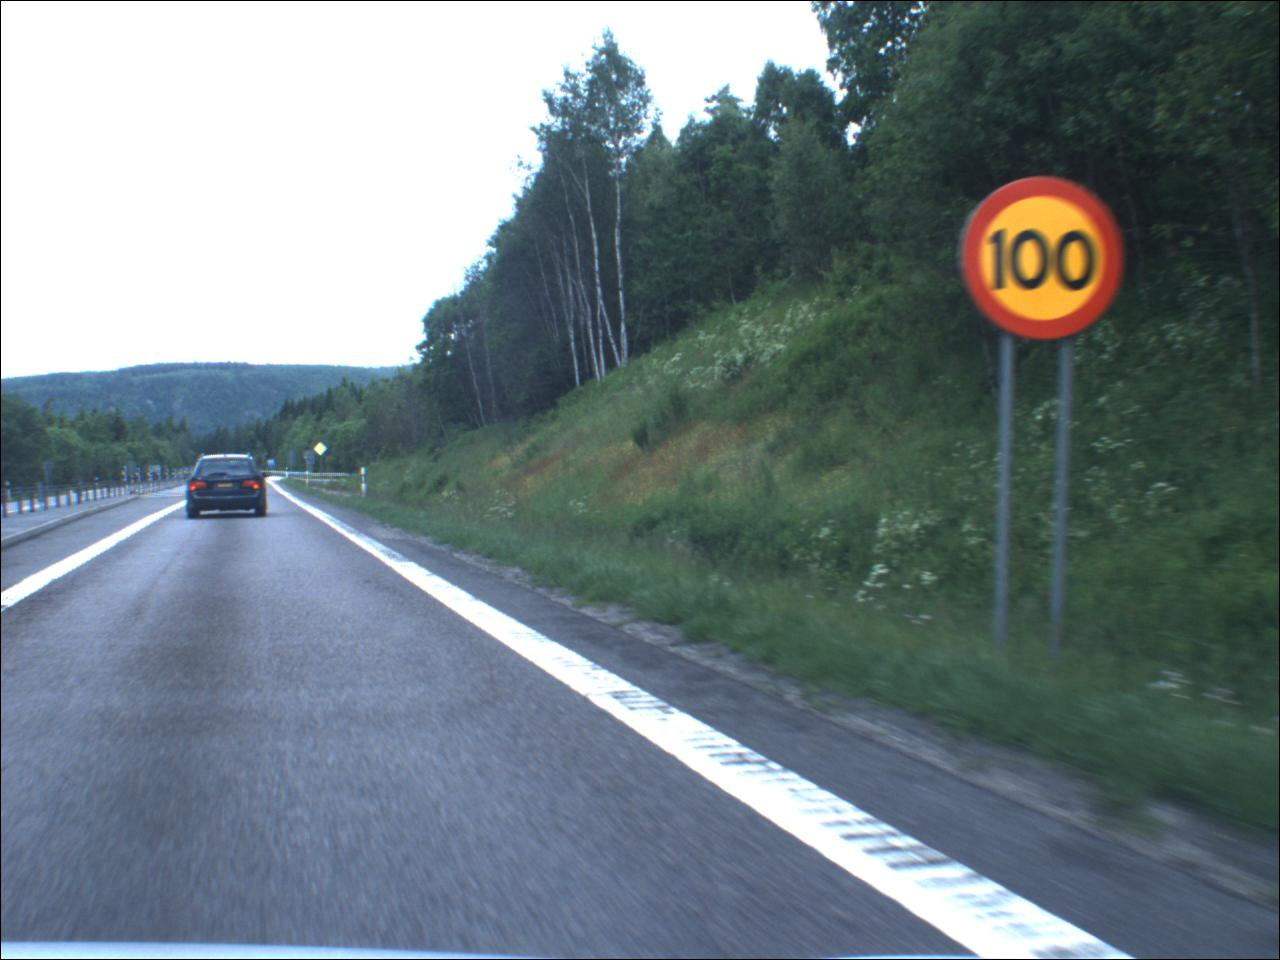100_SIGN: (961, 174, 1130, 344)
PRIORITY_ROAD: (315, 442, 331, 459)
